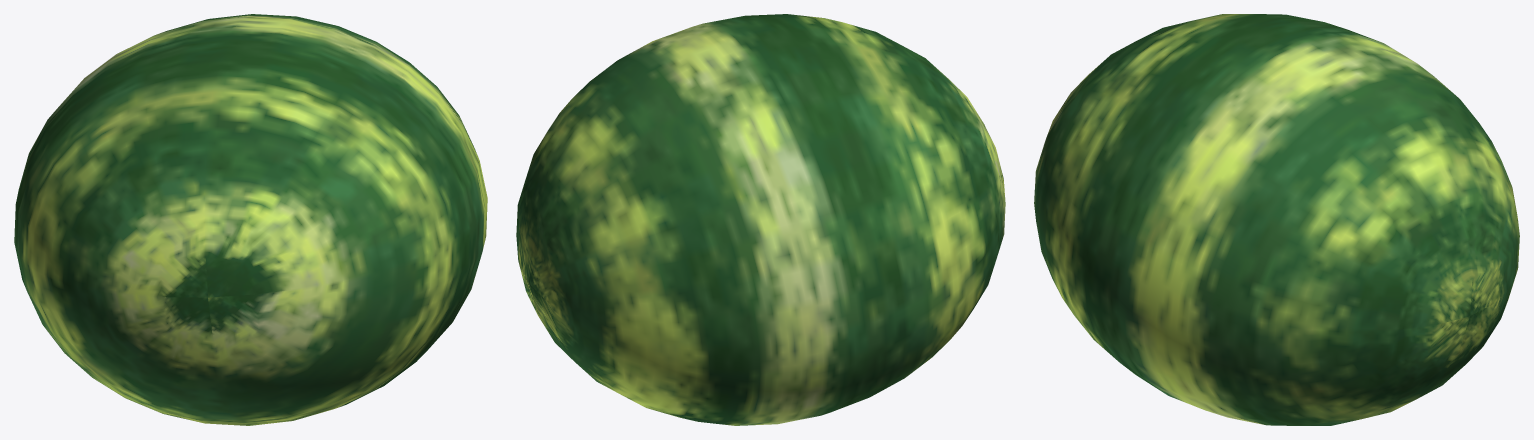
The model's file is WaterMelon_Item.fbx.
3 renders of one model, left to right at view 1: azimuth 30°, elevation 25°; view 2: azimuth 150°, elevation 25°; view 3: azimuth 270°, elevation 25°, orthographic. The views are drawn at different scales.
Visible parts, largest first — view 1: Mellon (1); view 2: Mellon (1); view 3: Mellon (1).
Part boxes in pixels (bbox=[...]): Mellon (1): bbox=[14, 14, 487, 425]; Mellon (1): bbox=[516, 14, 1005, 425]; Mellon (1): bbox=[1034, 14, 1519, 425].
Bounding box in the file's own units: 1.1 × 0.903 × 1.11.
